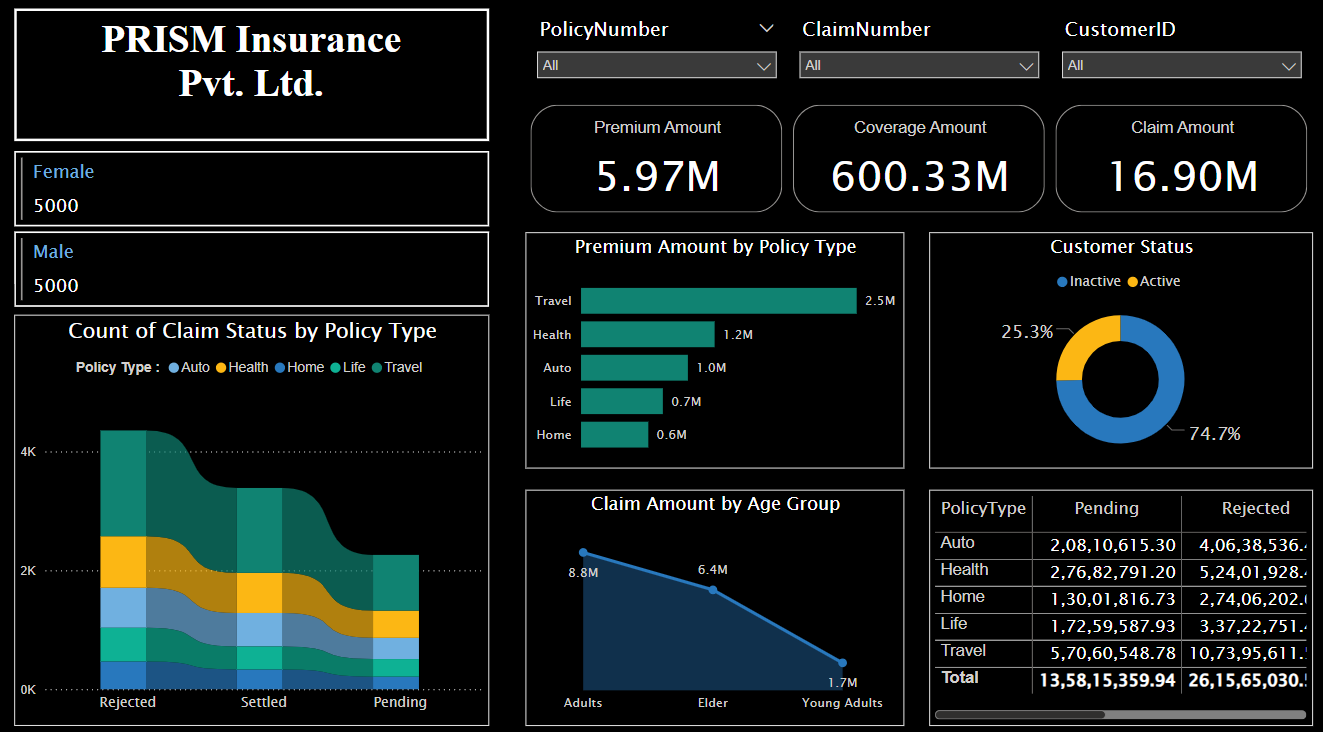

What the dashboard file says about the page in this screenshot:
{"tool":"powerbi","page":{"name":"Page 1","canvas":[1280,720],"ordinal":0},"visuals":[{"type":"slicer","fields":{"Values":["InsuranceData.PolicyNumber"]},"box":[508.6,11.6,253.4,72.4],"z":0},{"type":"slicer","fields":{"Values":["InsuranceData.ClaimNumber"]},"box":[762,11.6,253.4,72.4],"z":1000},{"type":"slicer","fields":{"Values":["InsuranceData.CustomerID"]},"box":[1015.3,11.6,253.4,72.4],"z":2000},{"type":"textbox","box":[15.7,12.1,458.4,127.9],"z":3000},{"type":"cardVisual","fields":{"Data":["Sum(InsuranceData.PremiumAmount)"]},"box":[509.1,100.1,253.4,114.6],"z":4000},{"type":"cardVisual","fields":{"Data":["Sum(InsuranceData.CoverageAmount)"]},"box":[762.5,100.1,253.4,114.6],"z":5000},{"type":"cardVisual","fields":{"Data":["Sum(InsuranceData.ClaimAmount)"]},"box":[1015.8,100.1,253.4,114.6],"z":6000},{"type":"multiRowCard","fields":{"Values":["InsuranceData.Gender","CountNonNull(InsuranceData.Gender)"]},"box":[15.7,149.6,458.4,156.8],"z":7000},{"type":"ribbonChart","title":"Count of Claim Status by Policy Type","fields":{"Category":["InsuranceData.ClaimStatus"],"Y":["CountNonNull(InsuranceData.ClaimStatus)"],"Series":["InsuranceData.PolicyType"]},"box":[15.7,307.6,458.4,396.9],"z":8000},{"type":"barChart","title":"Premium Amount by Policy Type","fields":{"Category":["InsuranceData.PolicyType"],"Y":["Sum(InsuranceData.PremiumAmount)"]},"box":[509.1,228,365.6,228],"z":9000},{"type":"lineChart","title":"Claim Amount by Age Group","fields":{"Category":["InsuranceData.Age Group"],"Y":["Sum(InsuranceData.ClaimAmount)"]},"box":[509.1,476.5,365.6,228],"z":10000},{"type":"donutChart","title":"Customer Status","fields":{"Category":["InsuranceData.Customer Status"],"Y":["CountNonNull(InsuranceData.PolicyEndDate)"]},"box":[898.8,228,370.4,228],"z":11000},{"type":"pivotTable","fields":{"Rows":["InsuranceData.PolicyType"],"Values":["Sum(InsuranceData.CoverageAmount)"],"Columns":["InsuranceData.ClaimStatus"]},"box":[899,477,370,228],"z":12000}]}

Visuals, with their boxes in screenshot pixels (x1, y1, x2, y2), scaled from the page's 1280x720 canvas onto the 1323x732 screenshot:
slicer - InsuranceData.PolicyNumber: left=526, top=12, right=788, bottom=85
slicer - InsuranceData.ClaimNumber: left=788, top=12, right=1050, bottom=85
slicer - InsuranceData.CustomerID: left=1049, top=12, right=1311, bottom=85
textbox: left=16, top=12, right=490, bottom=142
cardVisual - Sum(InsuranceData.PremiumAmount): left=526, top=102, right=788, bottom=218
cardVisual - Sum(InsuranceData.CoverageAmount): left=788, top=102, right=1050, bottom=218
cardVisual - Sum(InsuranceData.ClaimAmount): left=1050, top=102, right=1312, bottom=218
multiRowCard - InsuranceData.Gender x CountNonNull(InsuranceData.Gender): left=16, top=152, right=490, bottom=312
"Count of Claim Status by Policy Type" ribbonChart: left=16, top=313, right=490, bottom=716
"Premium Amount by Policy Type" barChart: left=526, top=232, right=904, bottom=464
"Claim Amount by Age Group" lineChart: left=526, top=484, right=904, bottom=716
"Customer Status" donutChart: left=929, top=232, right=1312, bottom=464
pivotTable - InsuranceData.PolicyType x Sum(InsuranceData.CoverageAmount): left=929, top=485, right=1312, bottom=717
